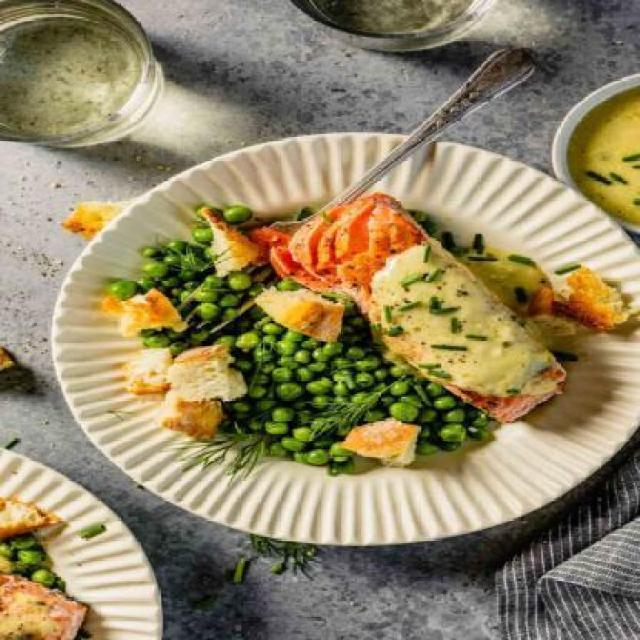Peas: (105, 206, 498, 472), (0, 532, 72, 593)
